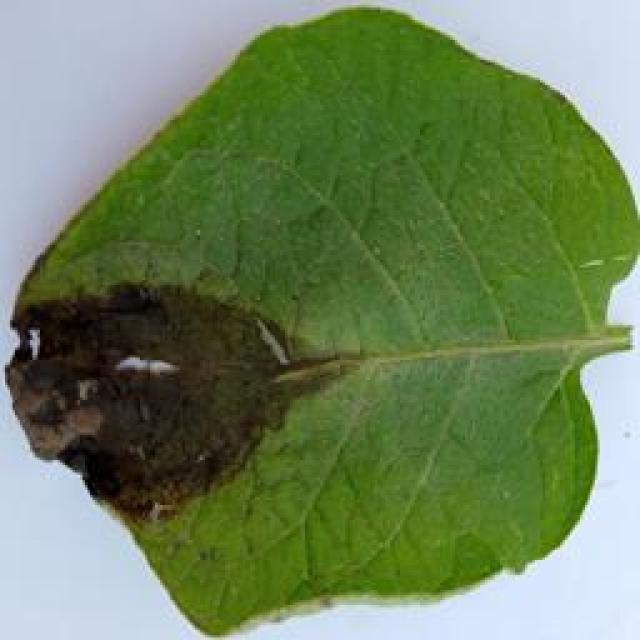Potato_Late_Blight: (5, 8, 629, 636)
